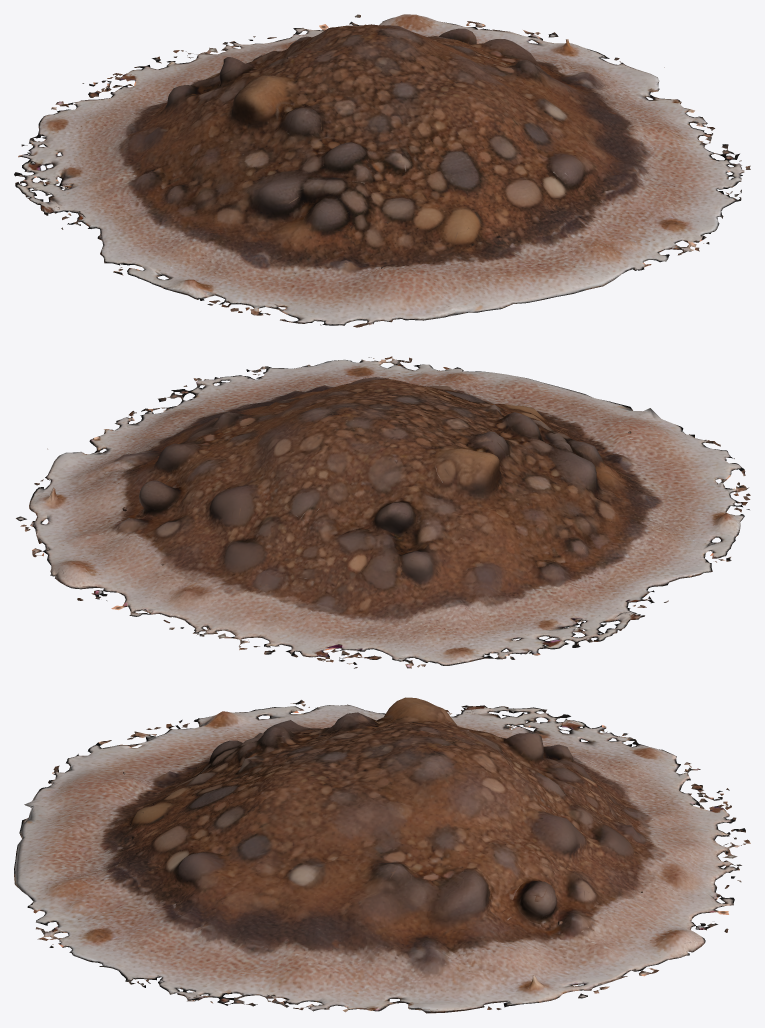
The model's file is Meshy_AI_toz_0102212938_texture.fbx.
3 views of the same model, one above another, from view 1: azimuth 30°, elevation 25°; view 2: azimuth 150°, elevation 25°; view 3: azimuth 270°, elevation 25° (orthographic). The views are drawn at different scales.
Visible parts, largest first — view 1: Mesh0; view 2: Mesh0; view 3: Mesh0.
Boxes of the visible parts, x1,y1,x2,y2 form: Mesh0: (14, 14, 750, 327); Mesh0: (16, 356, 750, 668); Mesh0: (14, 697, 750, 1013).
Bounding box in the file's own units: 192 × 34.48 × 188.
Materials: 1 (1 with a texture image).
